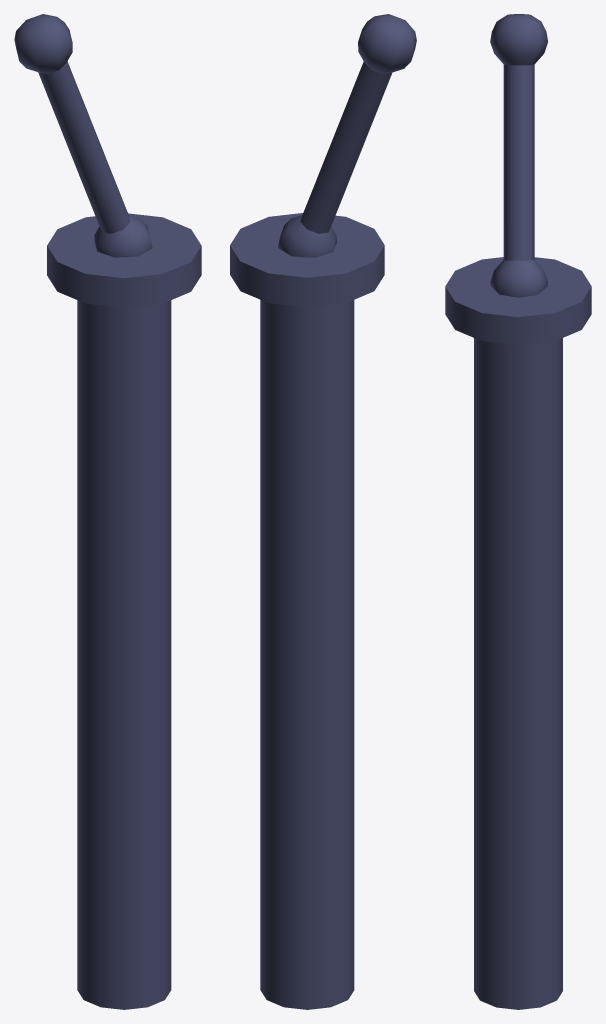
File: pumping anim.fbx
3 renders of one model, left to right at view 1: azimuth 30°, elevation 25°; view 2: azimuth 150°, elevation 25°; view 3: azimuth 270°, elevation 25°, orthographic. The views are drawn at different scales.
Parts seen in each view (by area): view 1: Pump, Arm; view 2: Pump, Arm; view 3: Pump, Arm.
Part boxes in pixels (x1,y1,x2,y2): Pump: (47, 213, 201, 1009); Arm: (14, 14, 152, 257); Pump: (230, 213, 384, 1009); Arm: (278, 14, 416, 257); Pump: (445, 257, 591, 1009); Arm: (490, 14, 548, 297).
Size of the model in its own units: 383 by 2096 by 296.
